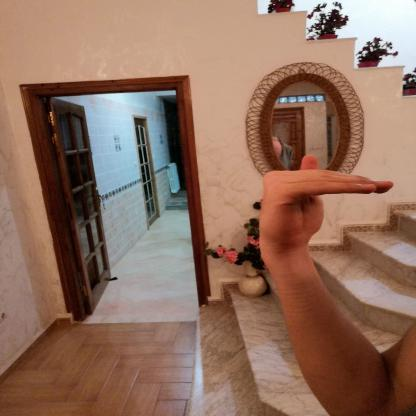KHAA: (243, 146, 407, 259)
